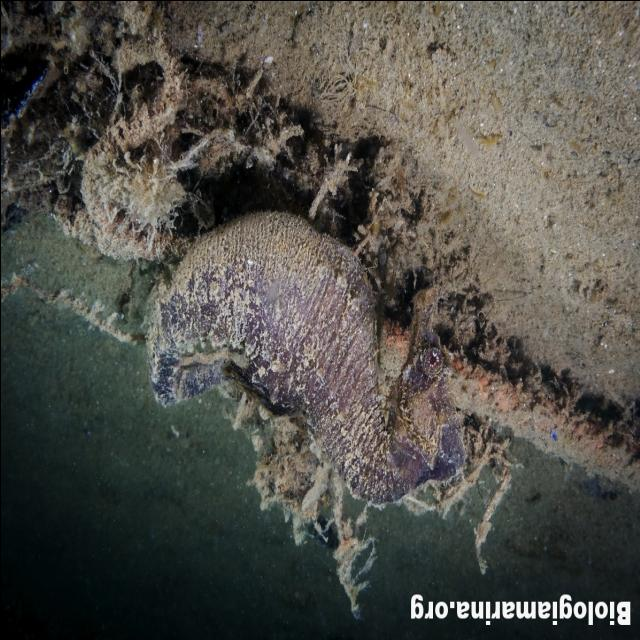Hippo: (378, 284, 470, 487)
